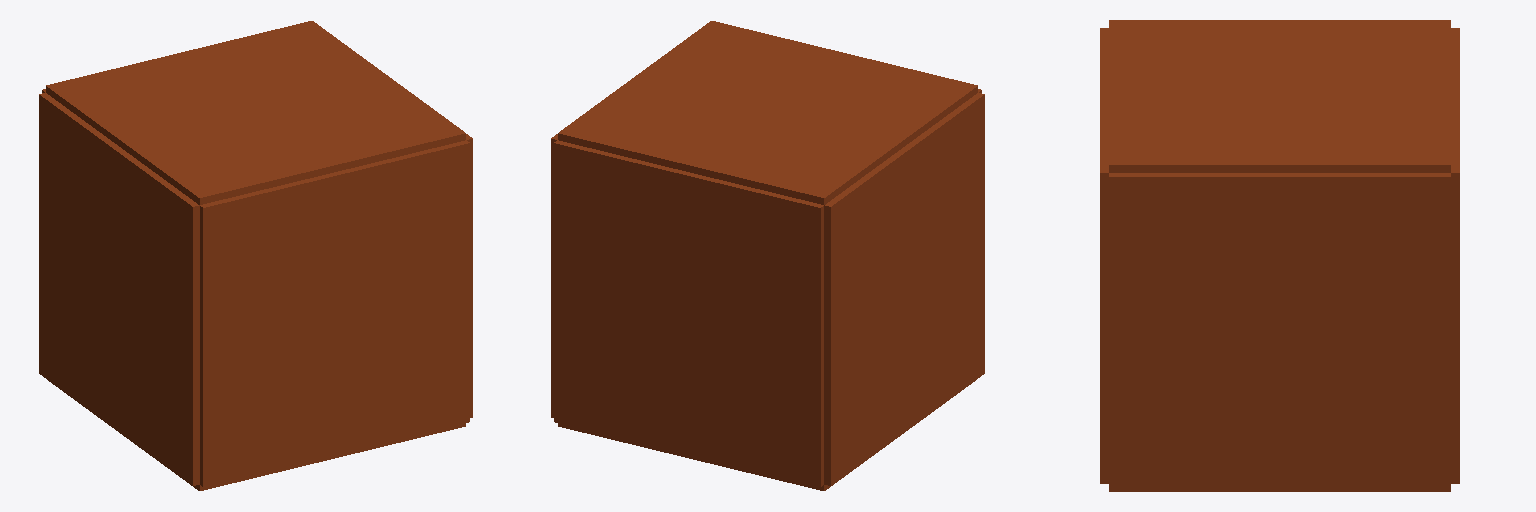
The robot description file, URDF, robot "box":
<?xml version="1.0"?>
<robot name="box">

  <!-- MATERIAL -->
  <material name="wood_brown">
    <color rgba="0.6 0.3 0.15 1.0"/>
  </material>

  <!-- BASE -->
  <link name="base_link">
    <visual>
      <geometry>
        <box size="1 1 0.05"/>
      </geometry>
      <material name="wood_brown"/>
      <origin xyz="0 0 0" rpy="0 0 0"/>
    </visual>
  </link>

  <!-- RIGHT -->
  <link name="right_link">
    <visual>
      <geometry>
        <box size="1 1 0.05"/>
      </geometry>
      <material name="wood_brown"/>
      <origin xyz="0 0 0.5" rpy="1.5708 0 0"/>
    </visual>
  </link>

  <joint name="right_to_bottom" type="fixed">
    <parent link="base_link"/>
    <child link="right_link"/>
    <origin xyz="0 0.5 0" rpy="0 0 0"/>
  </joint>

  <!-- LEFT -->
  <link name="left_link">
    <visual>
      <geometry>
        <box size="1 1 0.05"/>
      </geometry>
      <material name="wood_brown"/>
      <origin xyz="0 0 0.5" rpy="1.5708 0 0"/>
    </visual>
  </link>

  <joint name="left_to_bottom" type="fixed">
    <parent link="base_link"/>
    <child link="left_link"/>
    <origin xyz="0 -0.5 0" rpy="0 0 0"/>
  </joint>

  <!-- BACK -->
  <link name="back_link">
    <visual>
      <geometry>
        <box size="1 1 0.05"/>
      </geometry>
      <material name="wood_brown"/>
      <origin xyz="0 0 0.5" rpy="1.5708 0 1.5708"/>
    </visual>
  </link>

  <joint name="back_to_bottom" type="fixed">
    <parent link="base_link"/>
    <child link="back_link"/>
    <origin xyz="-0.5 0 0" rpy="0 0 0"/>
  </joint>

  <!-- FRONT -->
  <link name="front_link">
    <visual>
      <geometry>
        <box size="1 1 0.05"/>
      </geometry>
      <material name="wood_brown"/>
      <origin xyz="0 0 0.5" rpy="1.5708 0 1.5708"/>
    </visual>
  </link>

  <joint name="front_to_bottom" type="fixed">
    <parent link="base_link"/>
    <child link="front_link"/>
    <origin xyz="0.5 0 0" rpy="0 0 0"/>
  </joint>

  <!-- TOP (LID) -->
  <link name="top_link">
    <visual>
      <geometry>
        <box size="1 1 0.05"/>
      </geometry>
      <material name="wood_brown"/>
      <origin xyz="0.5 0 0" rpy="0 0 0"/>
    </visual>
  </link>

  <joint name="top_to_back" type="revolute">
    <axis xyz="0 -1 0"/>
    <parent link="back_link"/>
    <child link="top_link"/>
    <origin xyz="0 0 1" rpy="0 0 0"/>
    <limit effort="1000" lower="0" upper="1.57" velocity="0.5"/>
  </joint>

</robot>

--- Facts derived from the render (not from the file) ---
3 views of the same robot in one strip: view 1: azimuth 30°, elevation 25°; view 2: azimuth 150°, elevation 25°; view 3: azimuth 270°, elevation 25° (orthographic).
Robot: box — 6 links, 5 joints (1 revolute, 4 fixed); root link base_link; default pose: every joint at zero.
Links seen in each view (by area): view 1: left_link, back_link, top_link, base_link, front_link; view 2: right_link, back_link, top_link, base_link, front_link; view 3: front_link, top_link, right_link, left_link, base_link.
Link boxes in pixels (<box>): left_link: <box>200,140,469,486</box>; back_link: <box>39,93,199,485</box>; top_link: <box>46,21,465,204</box>; base_link: <box>48,380,465,490</box>; front_link: <box>466,134,472,417</box>; right_link: <box>554,140,823,486</box>; back_link: <box>824,93,984,485</box>; top_link: <box>558,21,977,204</box>; base_link: <box>558,380,975,490</box>; front_link: <box>551,134,557,417</box>; front_link: <box>1109,173,1450,486</box>; top_link: <box>1109,20,1450,172</box>; right_link: <box>1451,28,1459,483</box>; left_link: <box>1100,28,1108,483</box>; base_link: <box>1109,487,1450,491</box>.
Bounding box of the posed robot: 1.05 × 1.05 × 1.05 m (x, y, z).
Geometry: primitives only (box / cylinder / sphere), no mesh files.
